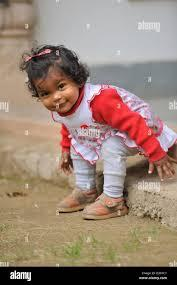Human: (13, 29, 177, 214)
